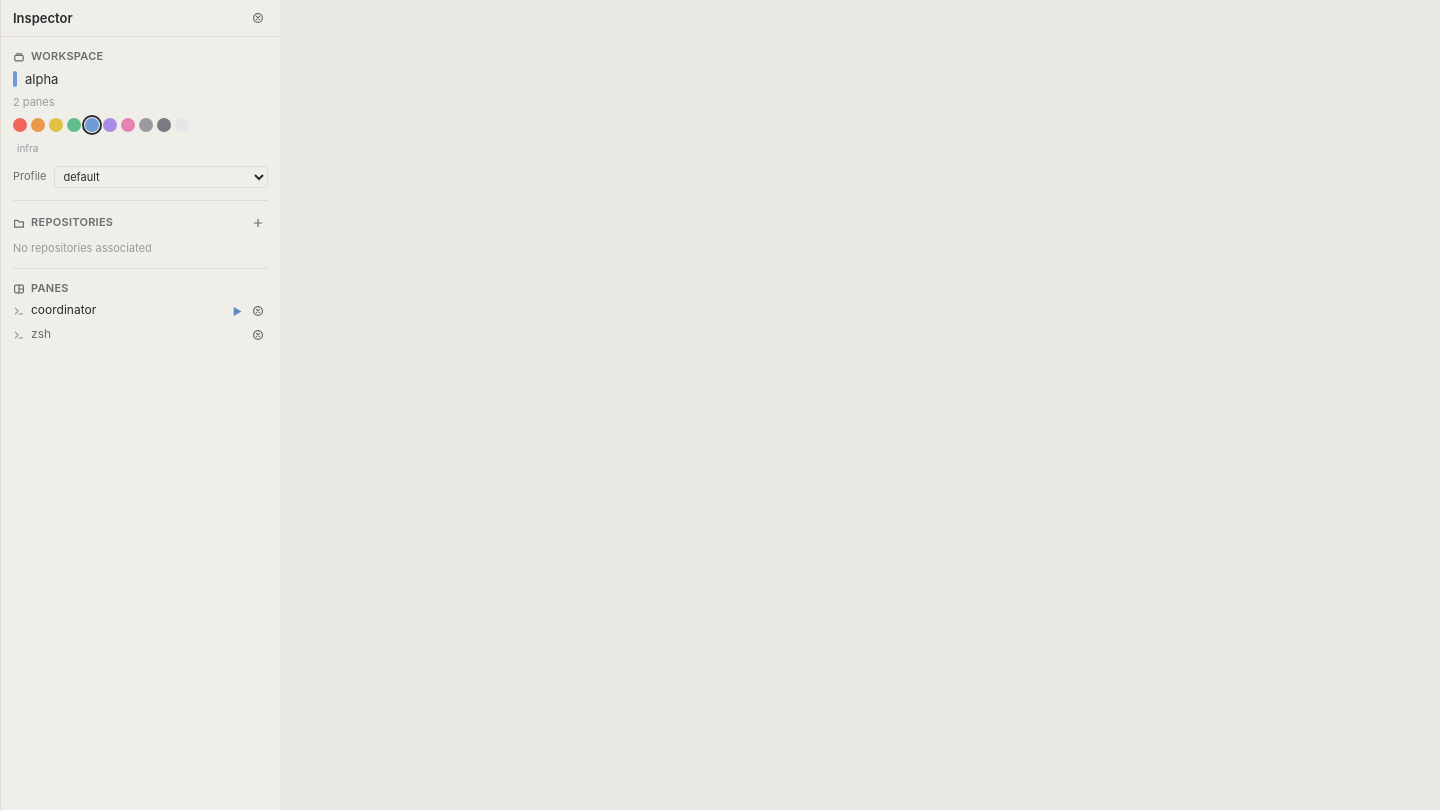
Test case: repository associations (§WS-139…§WS-142) › stops the batch at the daemon’s first refusal and keeps the sheet open
What coordinates should you click on to do the following:
click the button with test id "inspector-add-repo"
I would click on:
 (258, 223)
Its box is [248, 213, 268, 233].
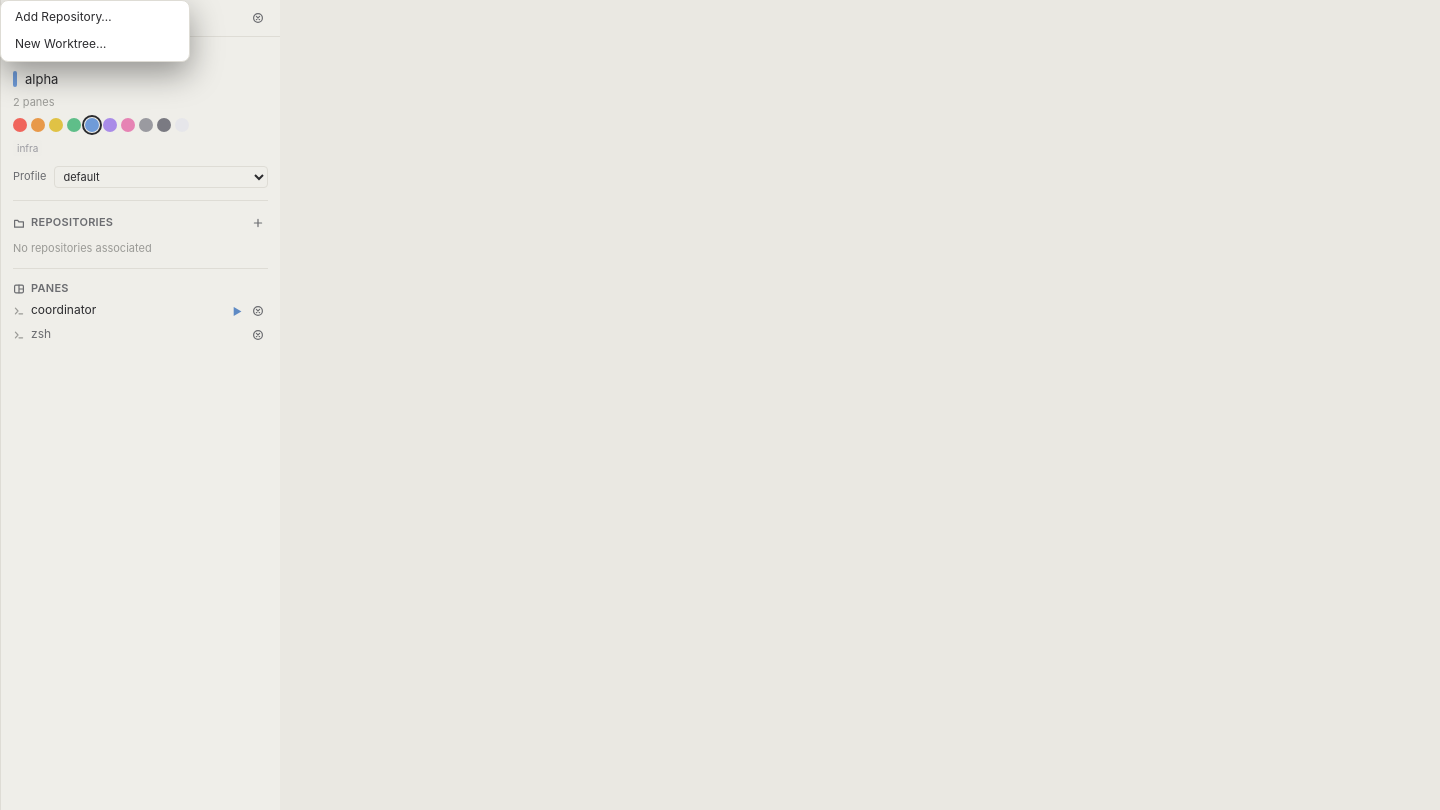
What coordinates should you click on to do the following:
click the menu item "Add Repository…"
I would click on:
 (95, 17)
Its box is [5, 5, 185, 30].
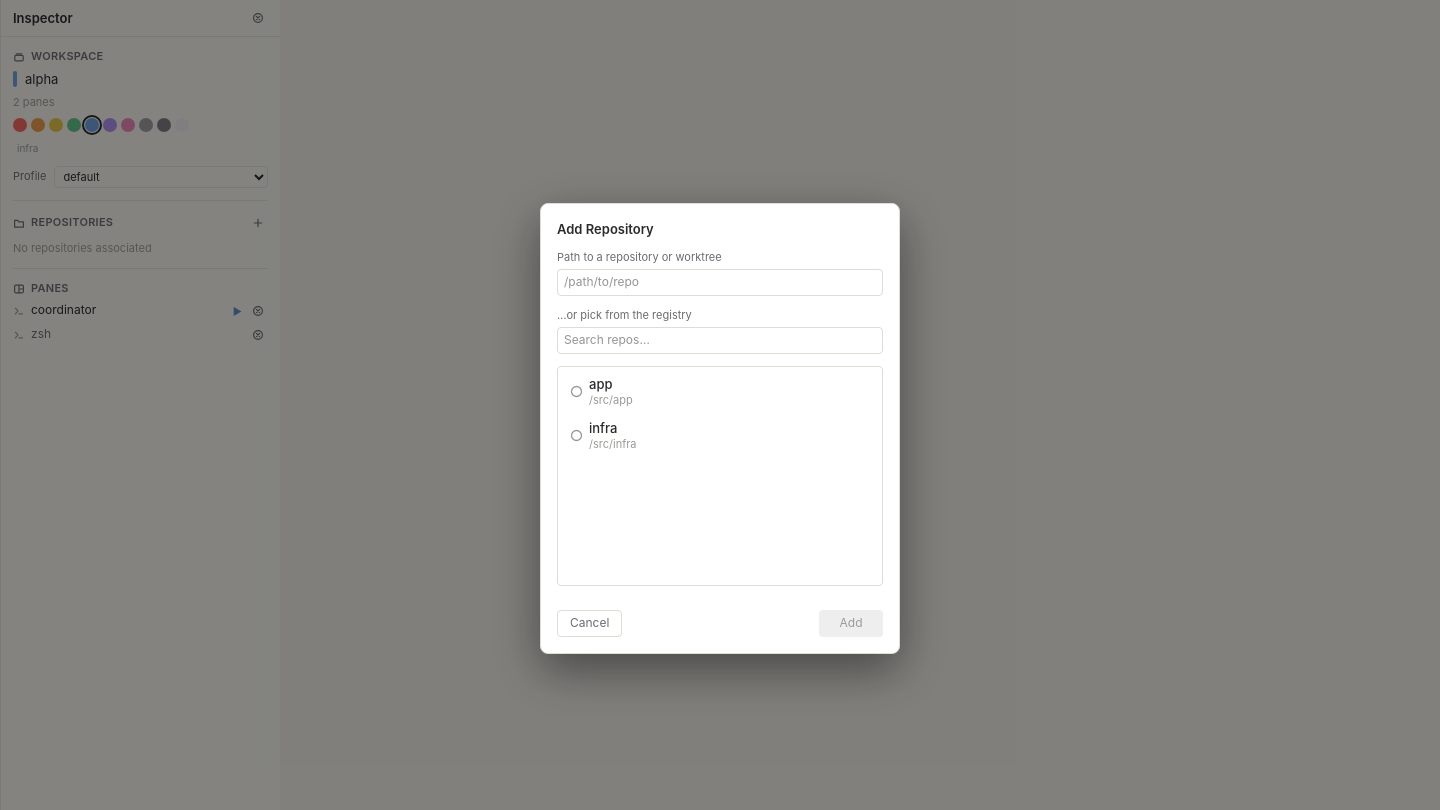
What coordinates should you click on to do the following:
click the option with test id "repo-choice-r2"
I would click on:
 (603, 435)
Its box is [570, 420, 636, 451].
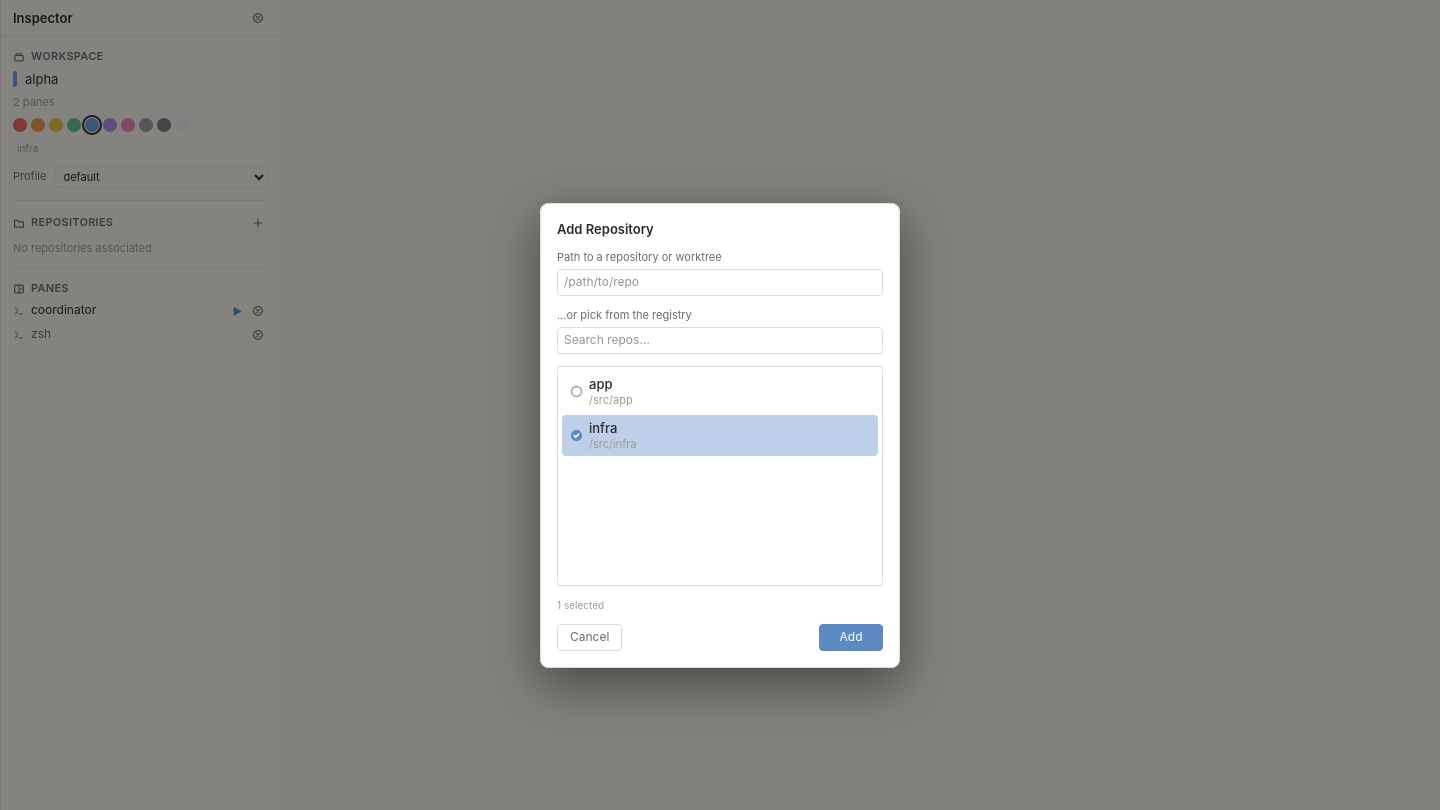
What coordinates should you click on to do the following:
click the option with test id "repo-choice-r1"
I would click on:
 (601, 392)
Its box is [570, 376, 633, 407].
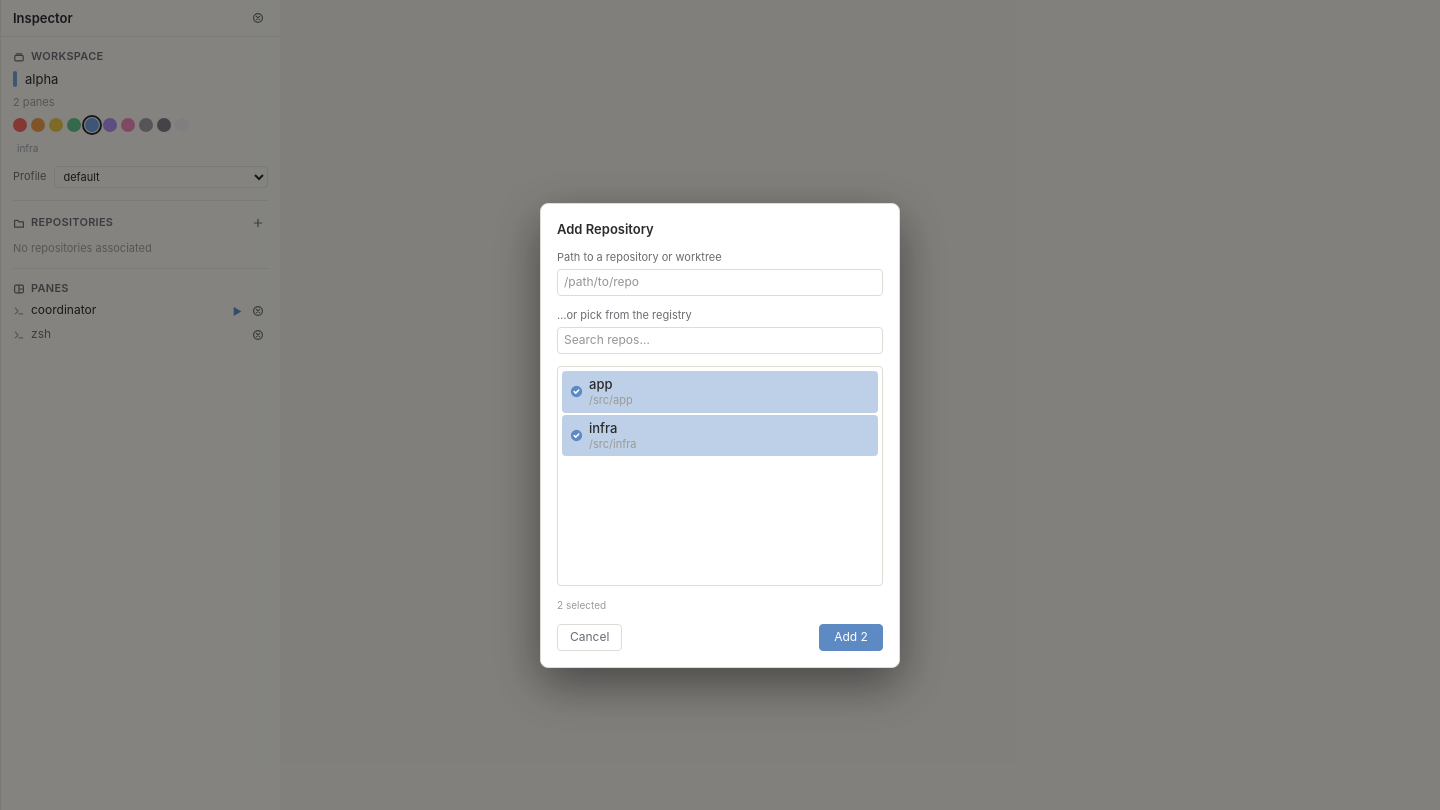
What coordinates should you click on to do the following:
click the button with test id "add-repo-submit"
I would click on:
 (851, 638)
Its box is [819, 624, 883, 651].
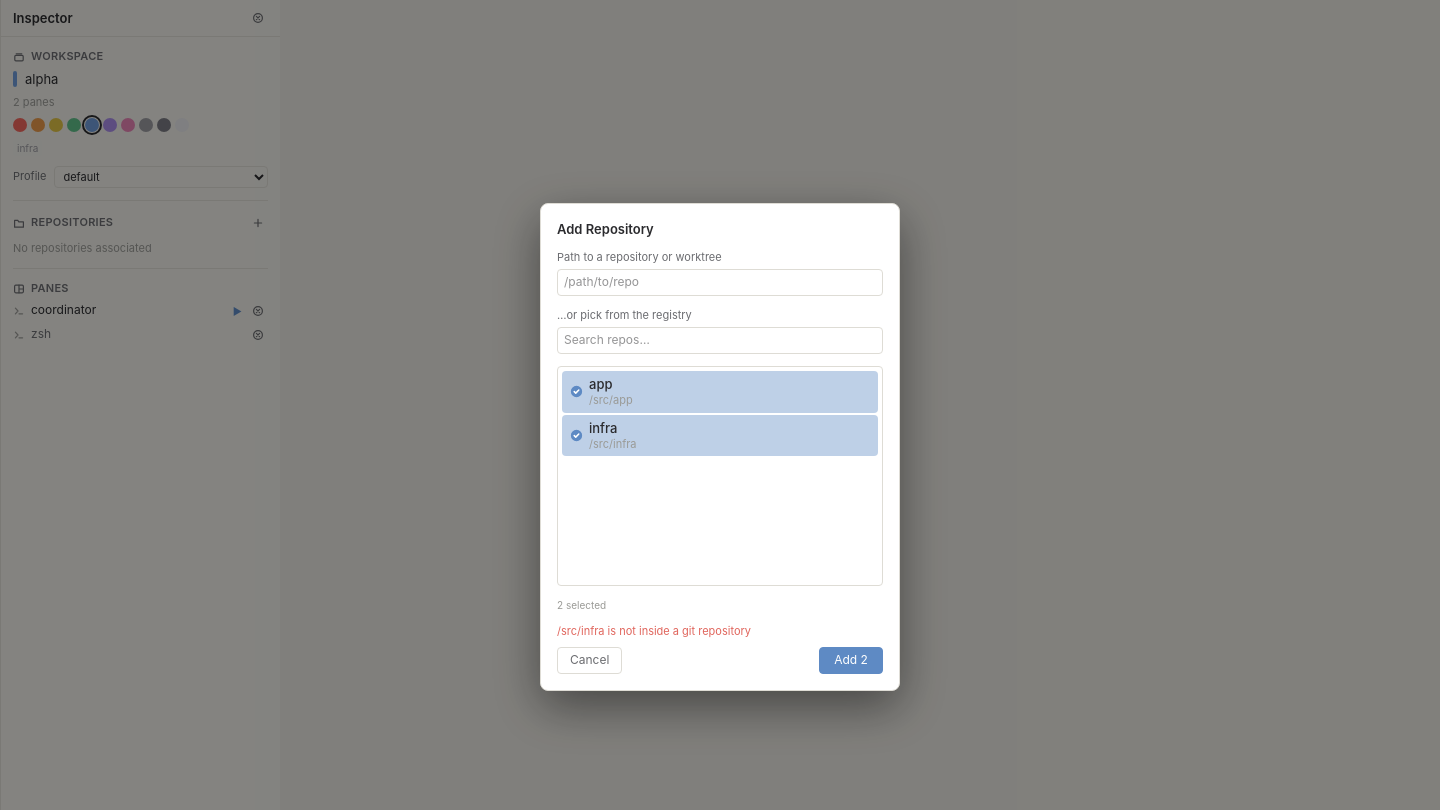
Result: the dialog with test id "add-repo-sheet" is shown at [540, 202, 900, 691]
Result: the text with test id "sheet-error" shows "not inside a git repository" at [557, 624, 751, 638]
